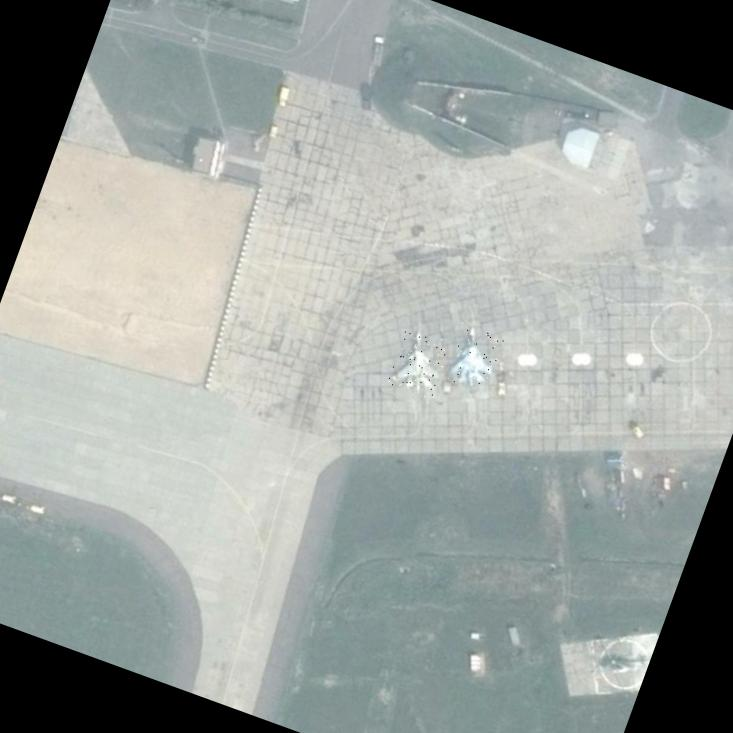A19: (384, 323, 453, 399), (441, 320, 504, 394)
